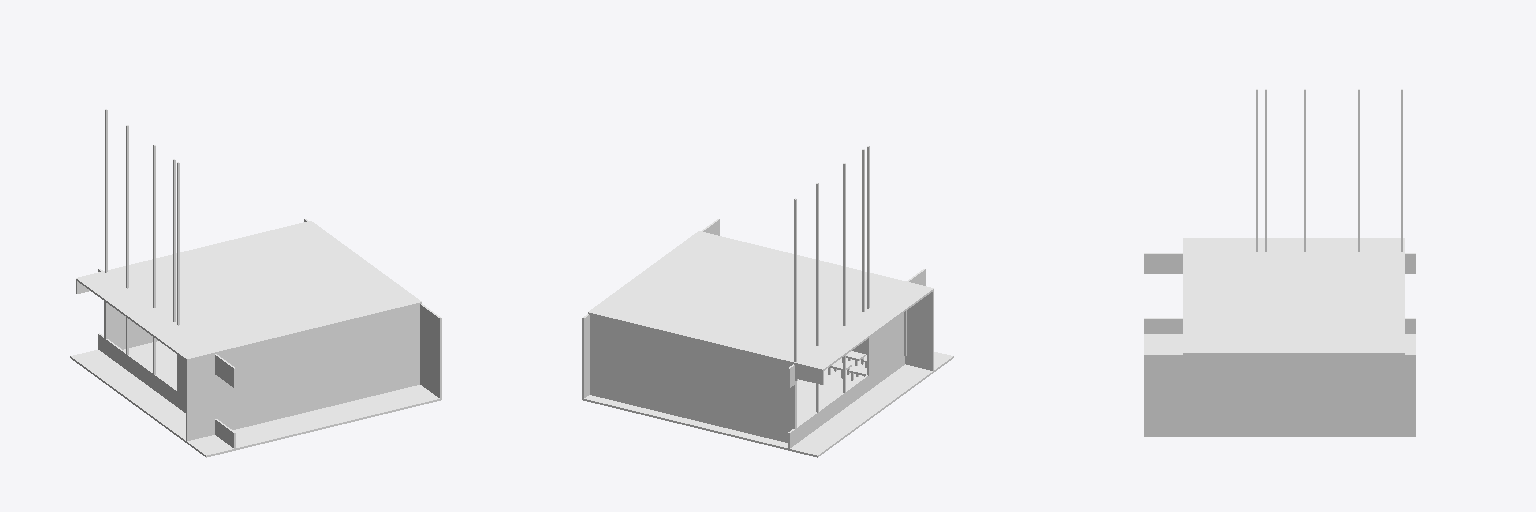
File: classroom.obj
The picture shows the model from 3 angles: view 1: azimuth 30°, elevation 25°; view 2: azimuth 150°, elevation 25°; view 3: azimuth 270°, elevation 25°; orthographic projection.
Size of the model in its own units: 126 by 126 by 126.